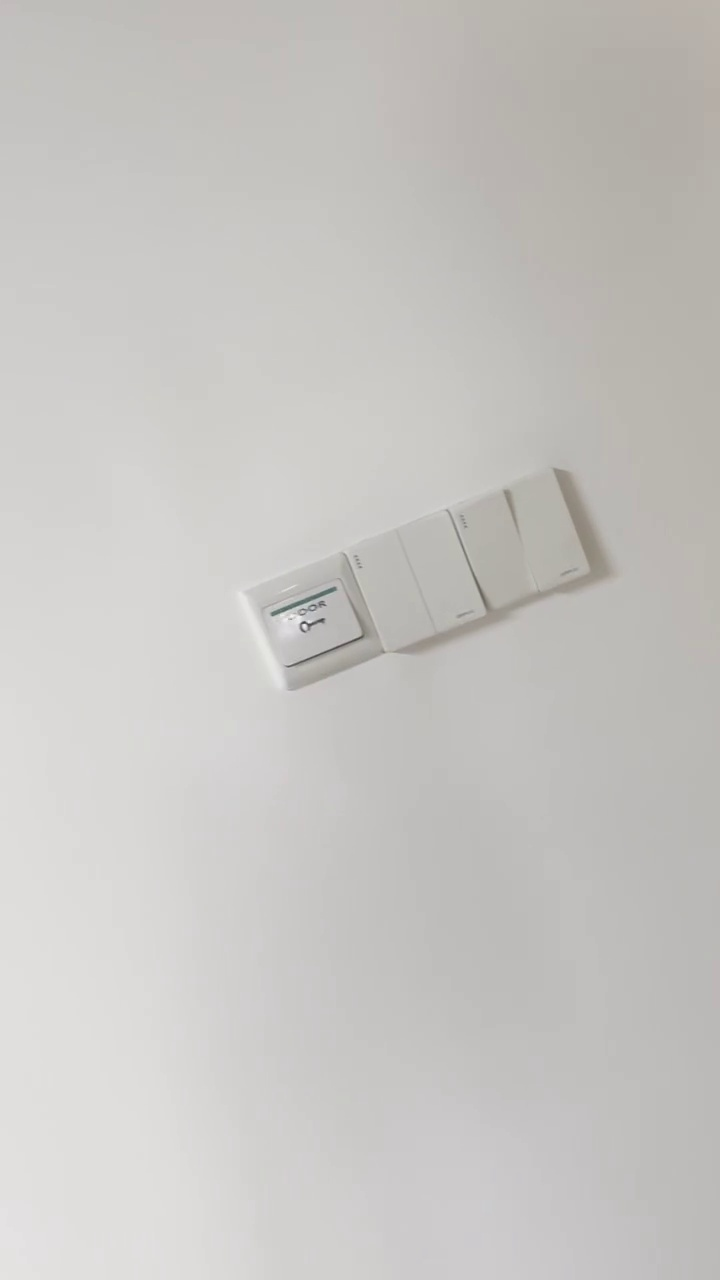button: (341, 507, 488, 664), (449, 460, 594, 608)
